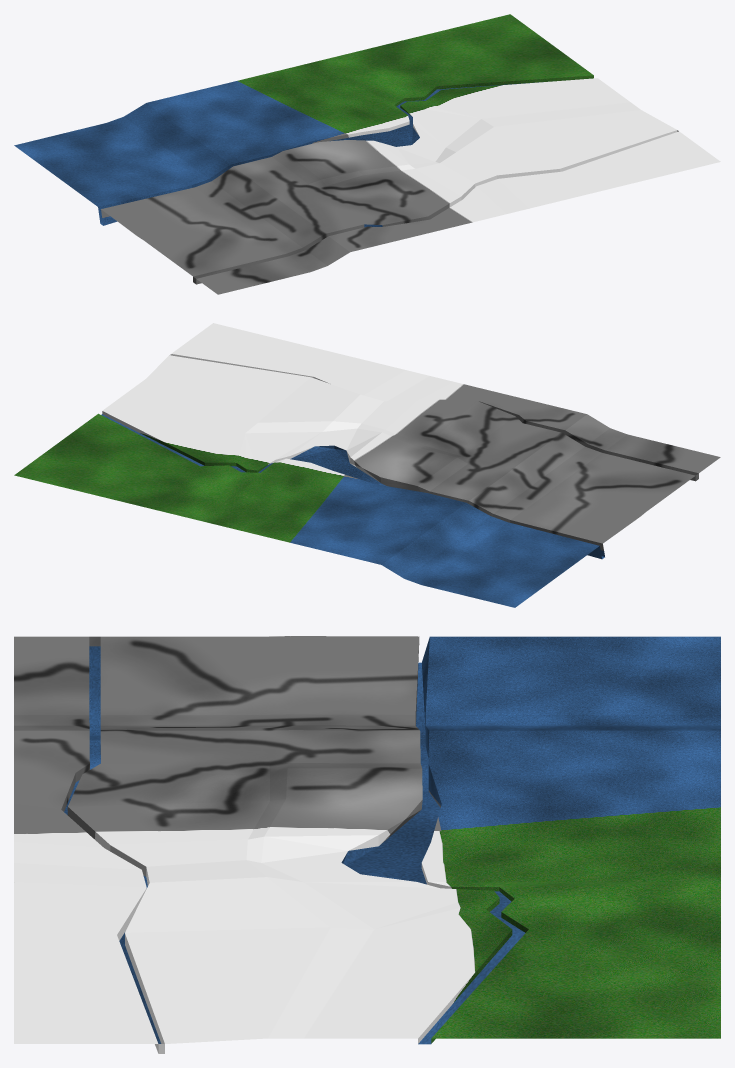
File: ground.dae
The picture shows the model from 3 angles, top to bottom: view 1: azimuth 30°, elevation 25°; view 2: azimuth 150°, elevation 25°; view 3: azimuth 270°, elevation 25°; orthographic projection. The views are drawn at different scales.
Parts seen in each view (by area): view 1: Plane_002; view 2: Plane_002; view 3: Plane_002.
Boxes of the visible parts, <box> form: Plane_002: <box>14,14,720,294</box>; Plane_002: <box>14,323,720,607</box>; Plane_002: <box>14,636,720,1053</box>.
Bounding box in the file's own units: 69.82 × 48.99 × 3.74.
